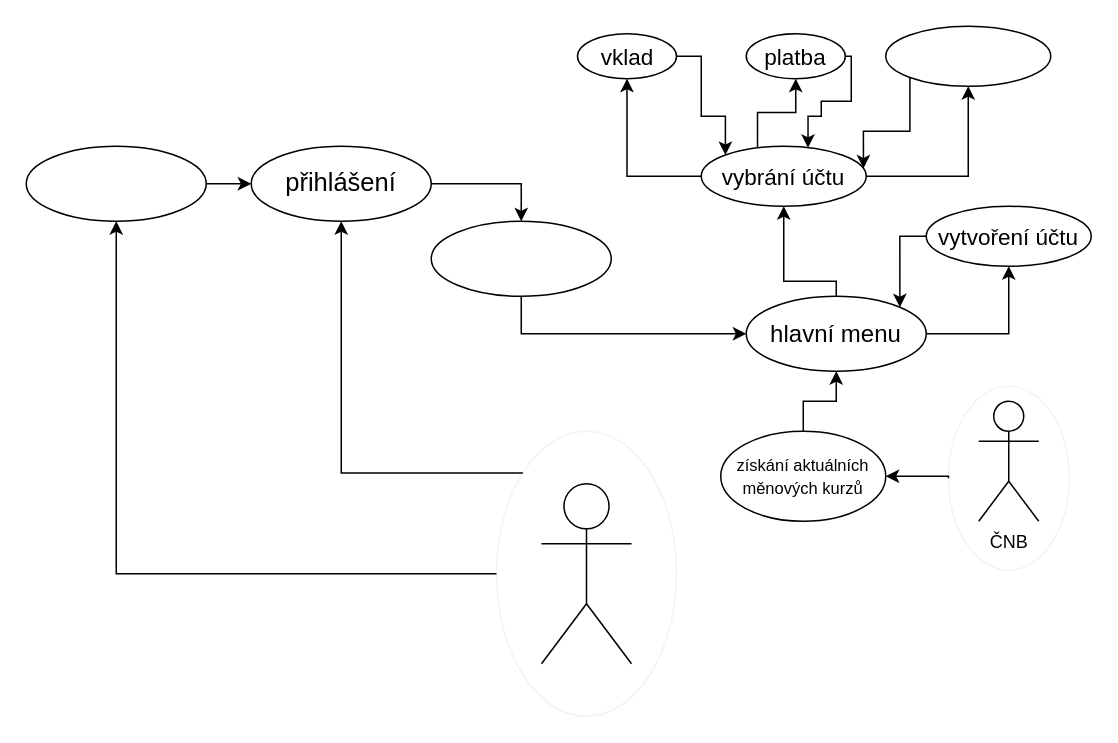
This 1118x743 diagram has some shape labels left out. Here are the shapes that lost their labels. From the top down, the centre of each, then its label:
At [967,55]: "výpis z účtu".
At [115,183]: "registrace".
At [520,258]: "dvoufázové ověření".
At [586,573]: "Uživatel".
